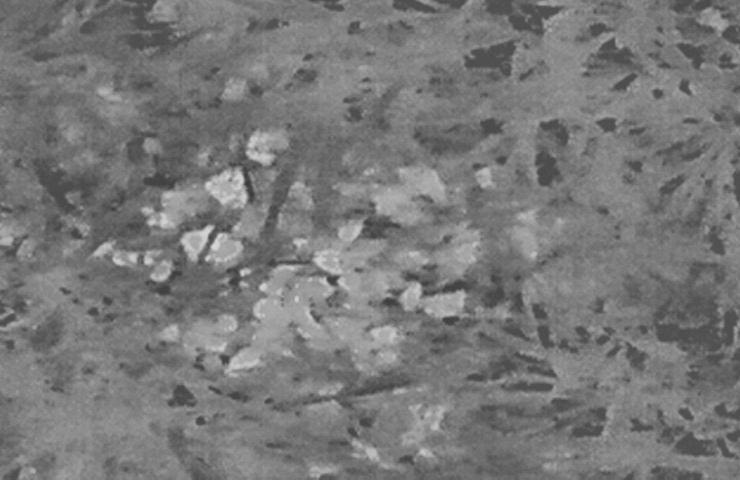landmines: (133, 118, 542, 383)
